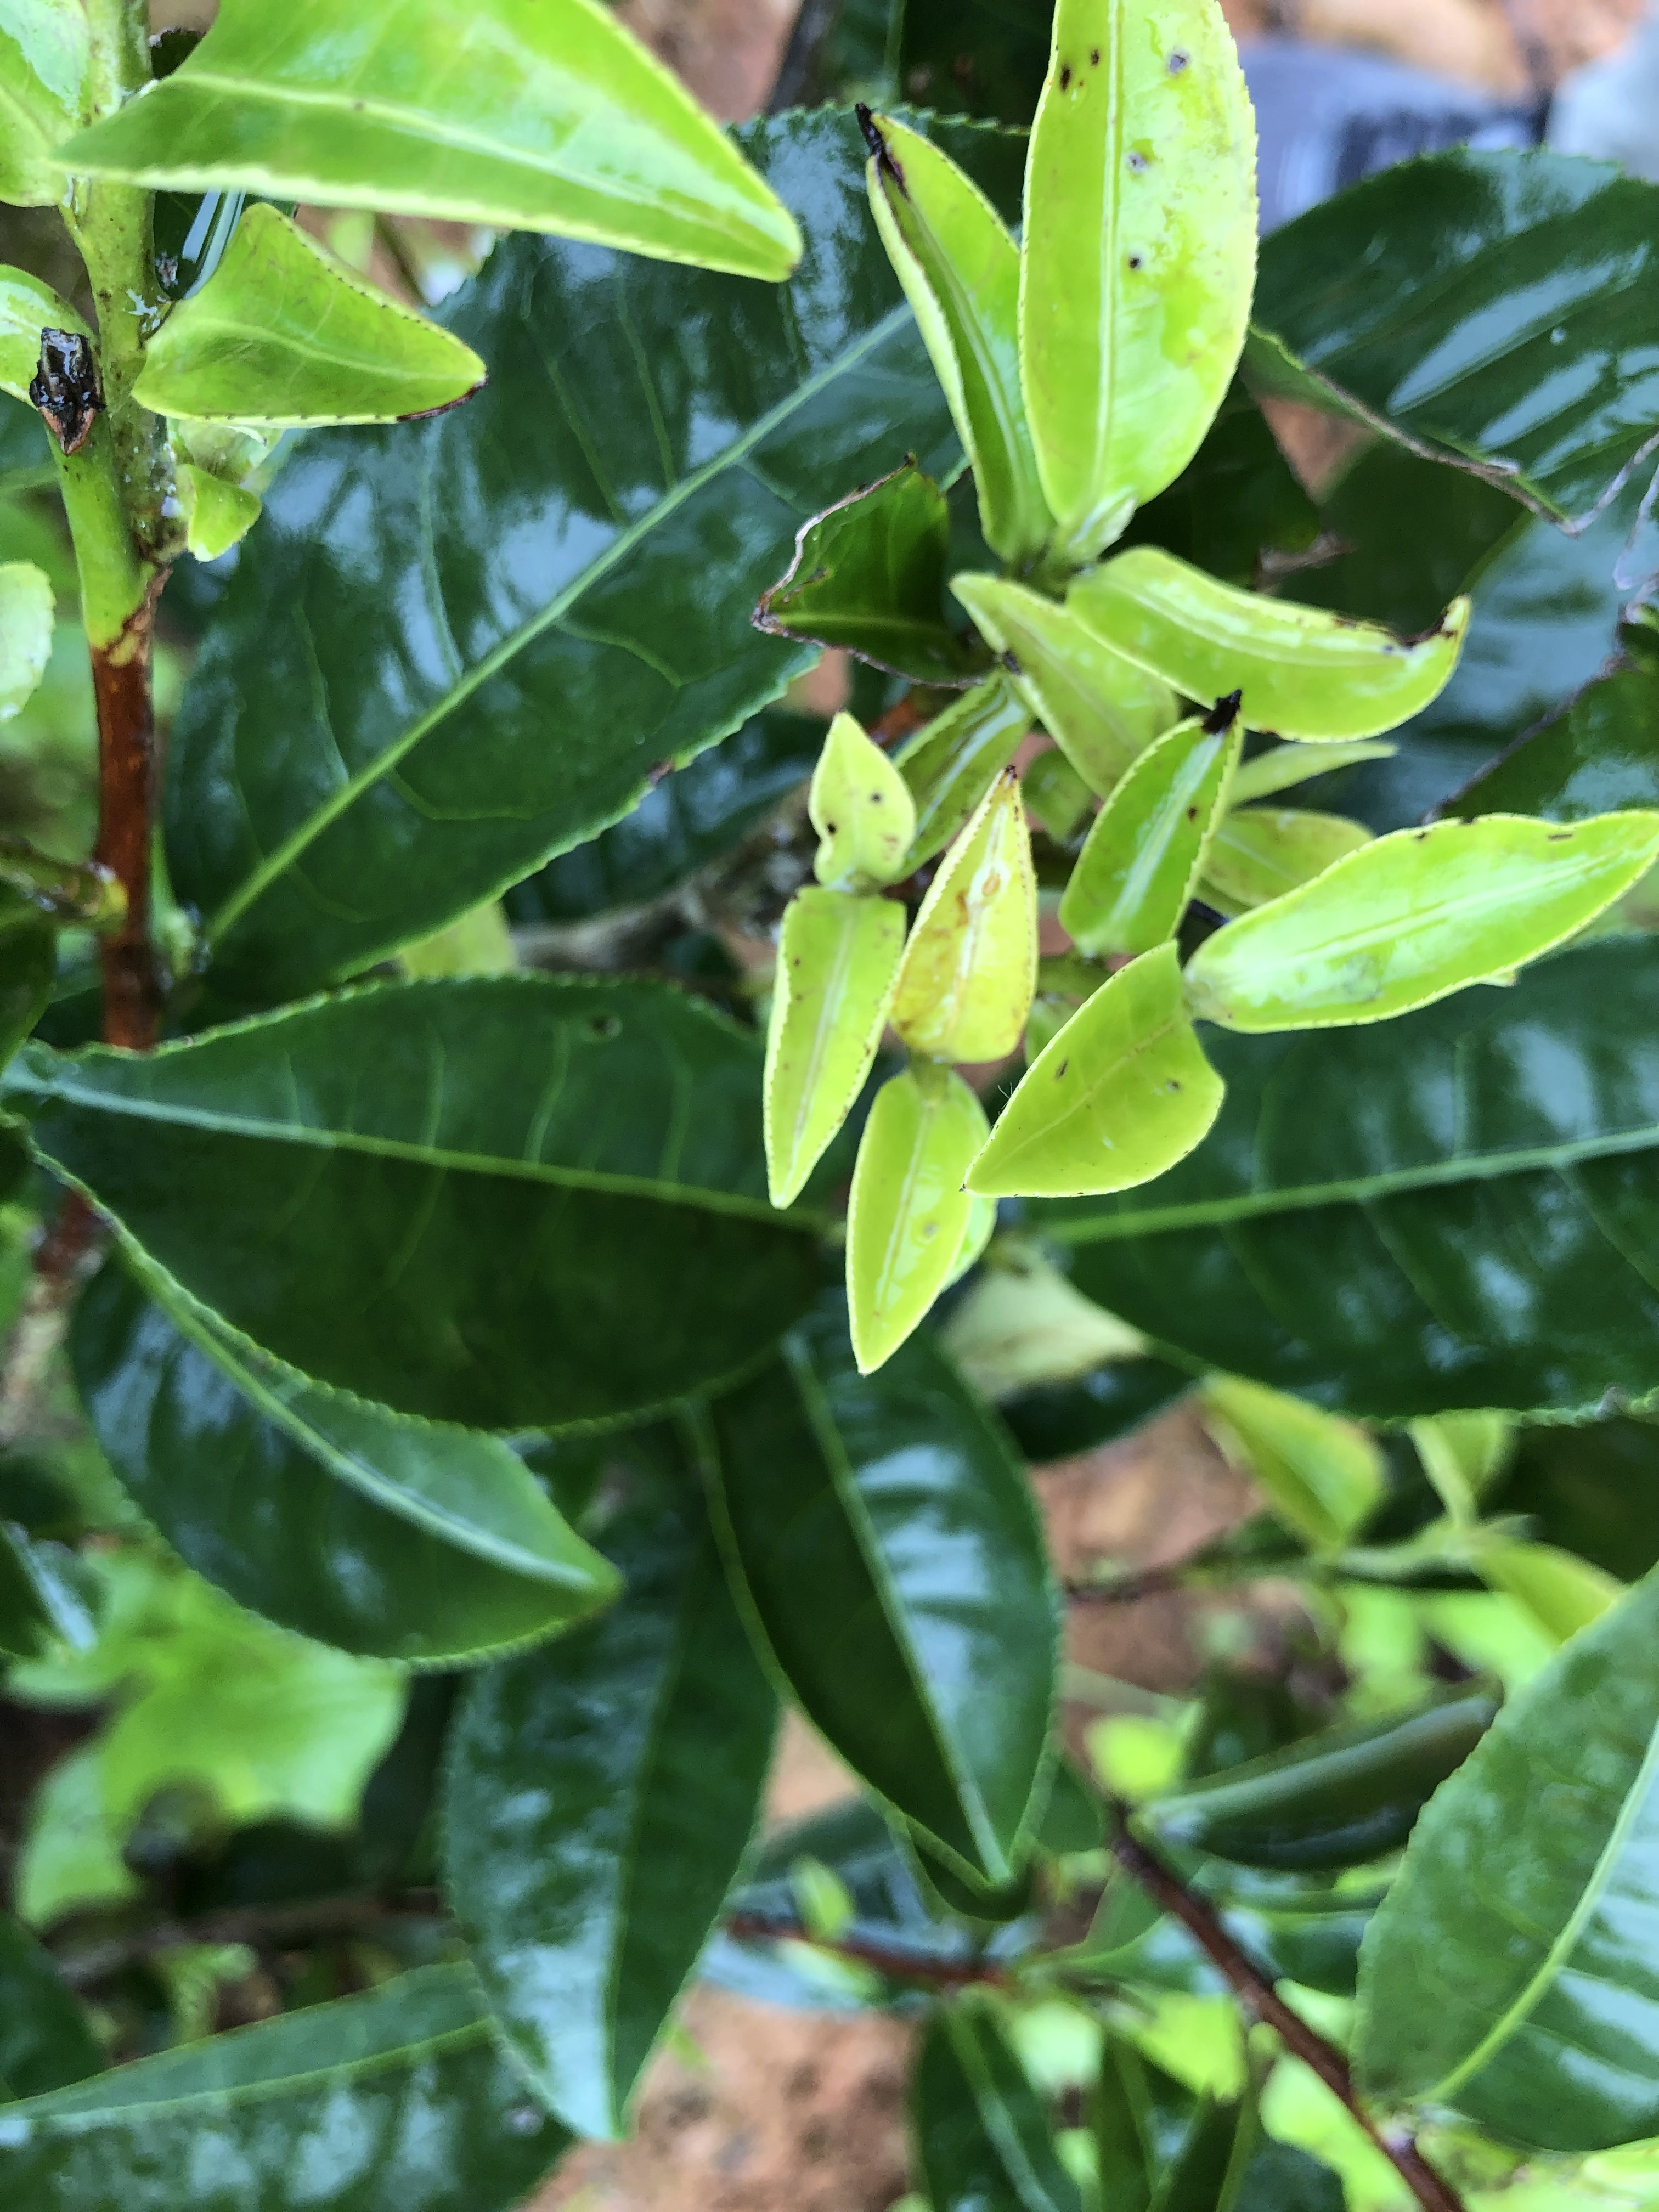formosa: (1007, 3, 1263, 505), (887, 770, 1039, 1082)
fungi_early: (758, 885, 903, 1191)
mosquito_early: (1011, 21, 1251, 519)
thrips: (892, 780, 1044, 1082)
